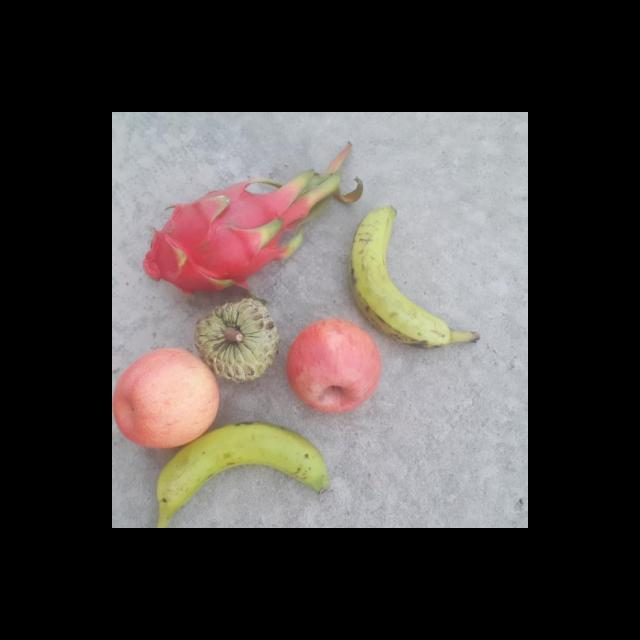Sakya fruit: (194, 296, 285, 381)
apple: (112, 344, 218, 449), (288, 318, 382, 414)
banana: (348, 202, 484, 352), (153, 422, 333, 520)
pitaya: (144, 184, 286, 297)
